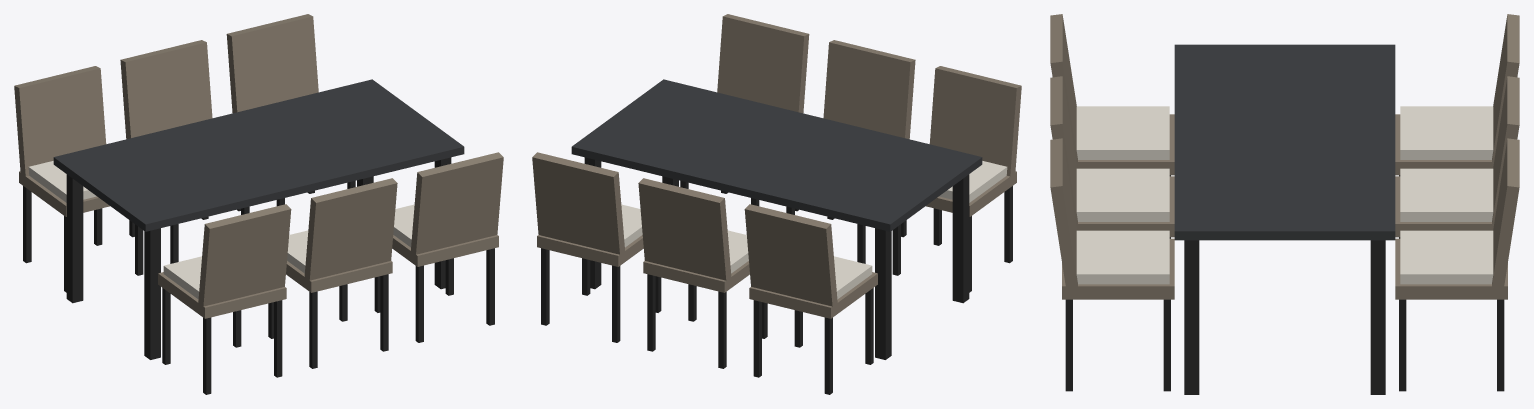
The picture shows the model from 3 angles, left to right: view 1: azimuth 30°, elevation 25°; view 2: azimuth 150°, elevation 25°; view 3: azimuth 270°, elevation 25°; orthographic projection. The views are drawn at different scales.
Visible parts, largest first — view 1: box-rattan (×10), box-primary, box-dark (×12), box-cushion (×4); view 2: box-rattan (×10), box-primary, box-dark (×12), box-cushion (×4); view 3: box-primary, box-cushion (×6), box-rattan (×12), box-dark (×6).
Part boxes in pixels (x1,y1,x2,y2): box-rattan (×10): [14, 14, 503, 318]; box-primary: [53, 79, 464, 231]; box-dark (×12): [23, 157, 494, 394]; box-cushion (×4): [28, 161, 414, 299]; box-rattan (×10): [532, 14, 1021, 318]; box-primary: [571, 79, 982, 231]; box-dark (×12): [541, 157, 1012, 394]; box-cushion (×4): [621, 161, 1007, 299]; box-primary: [1174, 44, 1395, 240]; box-cushion (×6): [1076, 106, 1493, 284]; box-rattan (×12): [1050, 14, 1519, 299]; box-dark (×6): [1065, 240, 1504, 394].
Bounding box in the file's own units: 1.8 × 0.9312 × 1.91.
